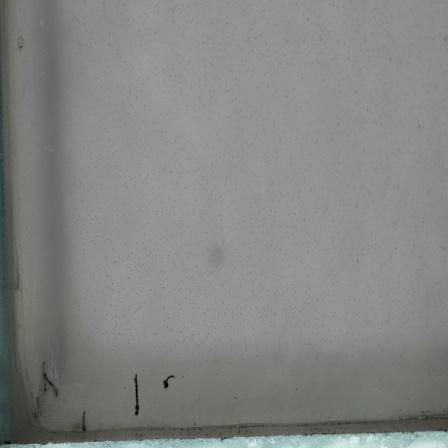Jentik-Nyamuk: (129, 369, 144, 417), (42, 366, 62, 401), (160, 371, 178, 394), (78, 408, 90, 435)
